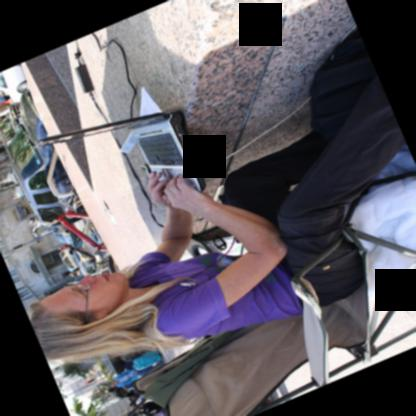backpack: (310, 27, 376, 141)
suitcase: (132, 347, 161, 368)
